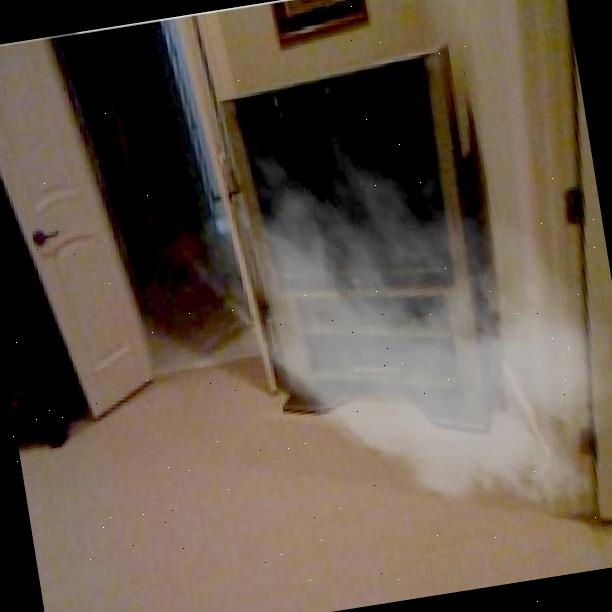smoke: (181, 84, 612, 568)
